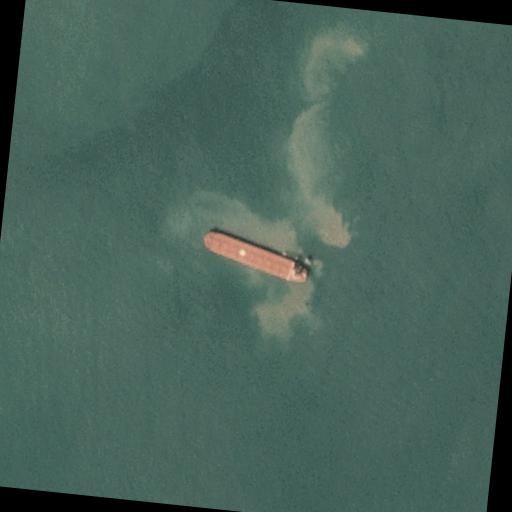ship: (199, 228, 313, 284)
